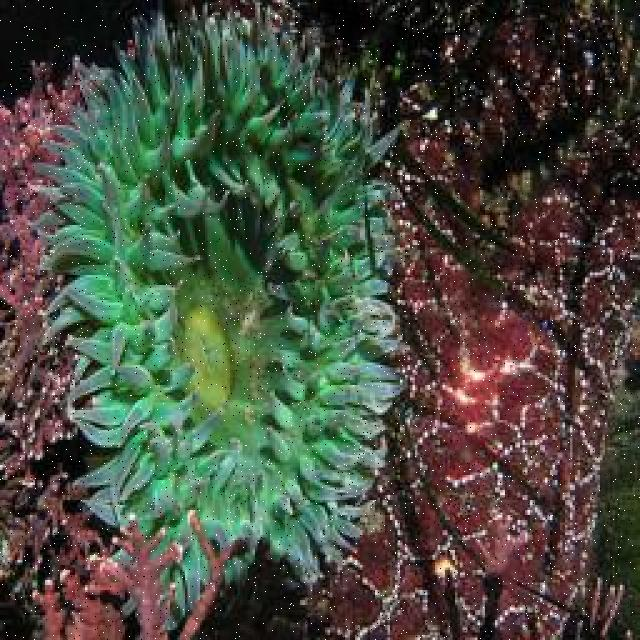reefs: (24, 2, 413, 611), (280, 0, 638, 638), (0, 59, 119, 624), (29, 516, 181, 638)
